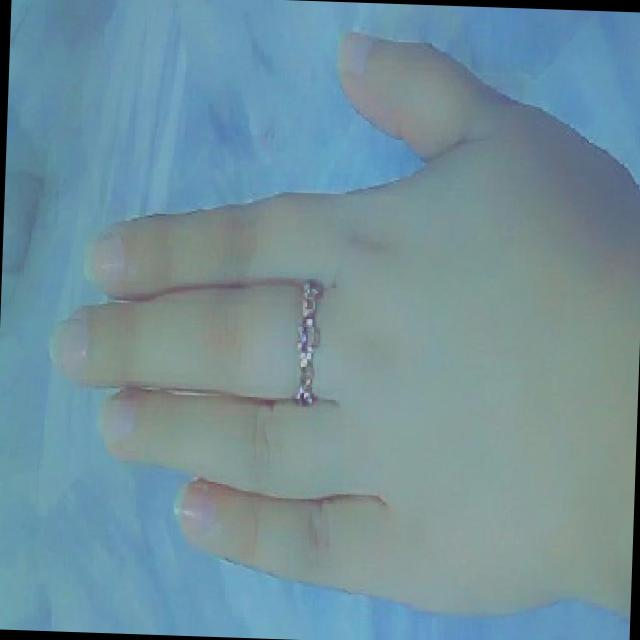Nail: (46, 313, 90, 372), (85, 232, 124, 290), (96, 393, 140, 444), (174, 479, 216, 529), (339, 31, 367, 72)
